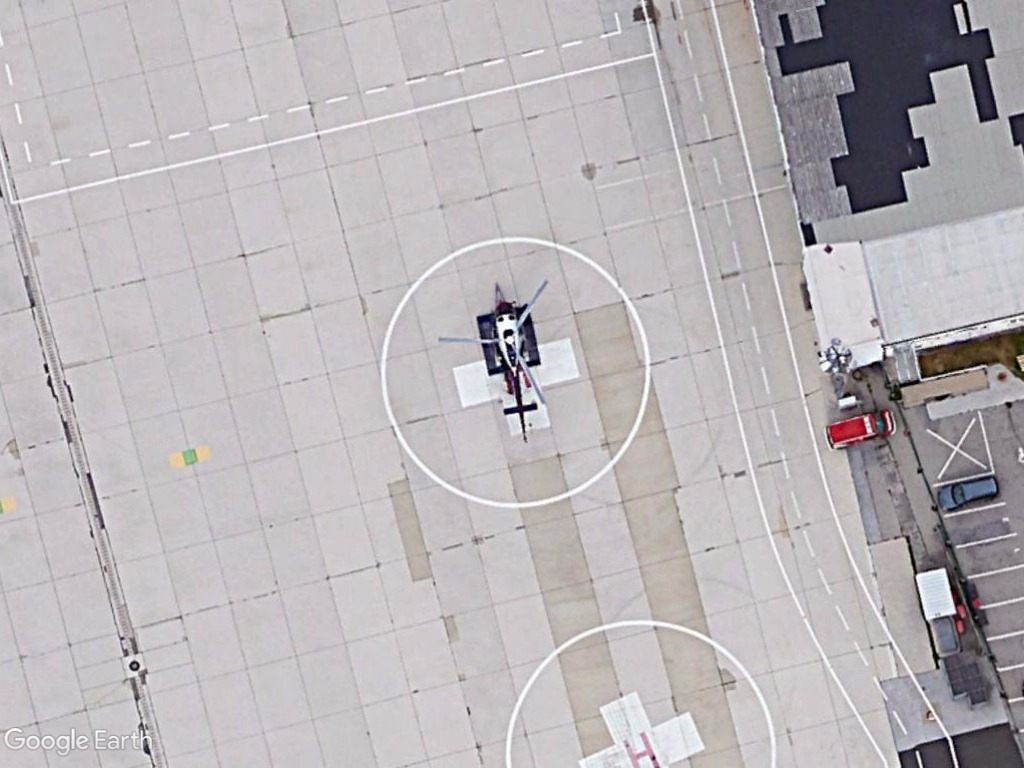car: (933, 472, 1002, 514)
helicopter: (432, 275, 557, 448)
van: (821, 407, 899, 453)
